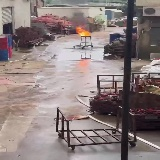fire: (76, 26, 90, 36)
